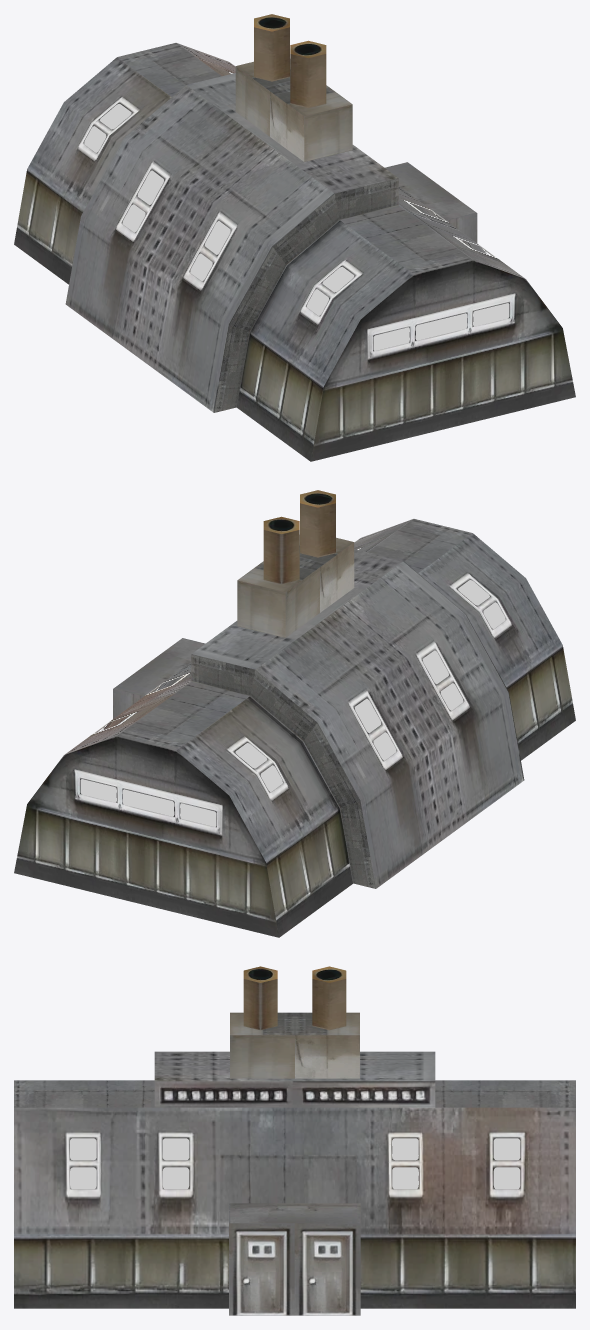
The model's file is singlecivlivingb_hdtex.glb.
3 renders of one model, top to bottom at view 1: azimuth 30°, elevation 25°; view 2: azimuth 150°, elevation 25°; view 3: azimuth 270°, elevation 25°, orthographic. The views are drawn at different scales.
Visible parts, largest first — view 1: Cylinder04, LitWin_SingleCivLivingB; view 2: Cylinder04, LitWin_SingleCivLivingB; view 3: Cylinder04, LitWin_SingleCivLivingB.
Part boxes in pixels (x1=…): Cylinder04: x1=14, y1=14, x2=575, y2=461; LitWin_SingleCivLivingB: x1=84, y1=104, x2=509, y2=350; Cylinder04: x1=14, y1=490, x2=575, y2=937; LitWin_SingleCivLivingB: x1=80, y1=580, x2=505, y2=826; Cylinder04: x1=14, y1=966, x2=575, y2=1315; LitWin_SingleCivLivingB: x1=70, y1=1138, x2=520, y2=1189.
Bounding box in the file's own units: 8.07 × 7.29 × 13.72.
Materials: 1 (1 with a texture image).
